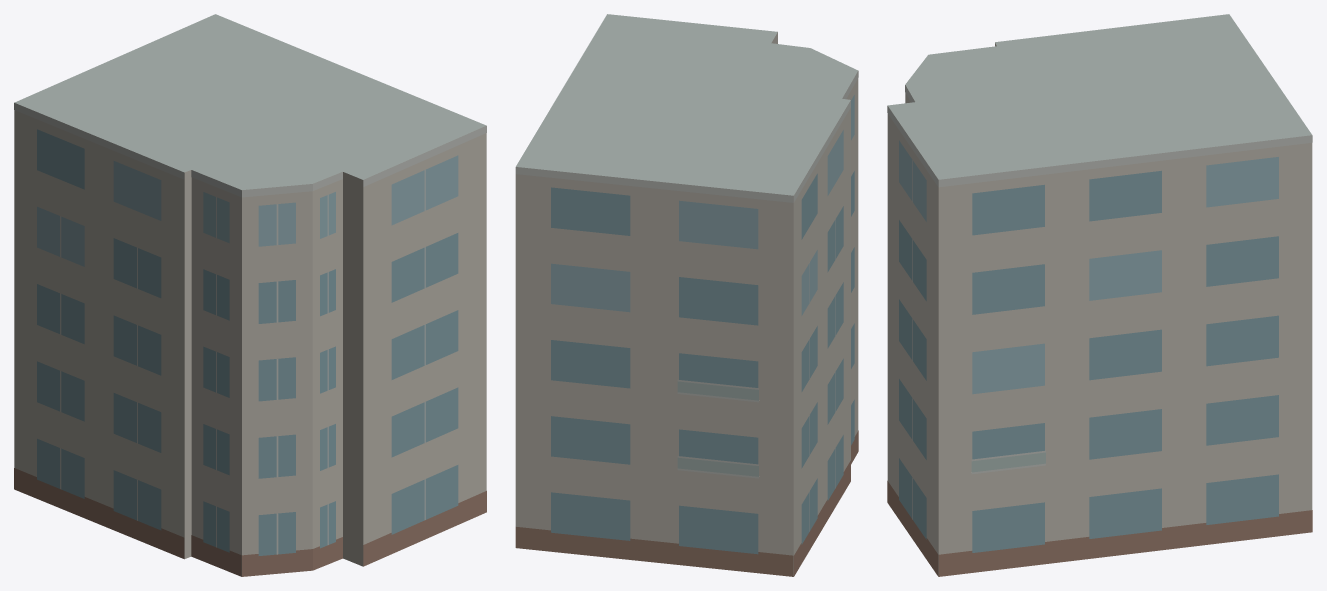
The model's file is survey-upis-32961389.glb.
3 views of the same model, side by side, from view 1: azimuth 30°, elevation 25°; view 2: azimuth 150°, elevation 25°; view 3: azimuth 270°, elevation 25° (orthographic). The views are drawn at different scales.
Visible parts, largest first — view 1: survey-upis-32961389.tmp; view 2: survey-upis-32961389.tmp; view 3: survey-upis-32961389.tmp.
Part boxes in pixels (x1,y1,x2,y2): survey-upis-32961389.tmp: (14,14,486,576); survey-upis-32961389.tmp: (515,14,858,576); survey-upis-32961389.tmp: (887,14,1312,576).
Bounding box in the file's own units: 11.56 × 12.9 × 12.52.
